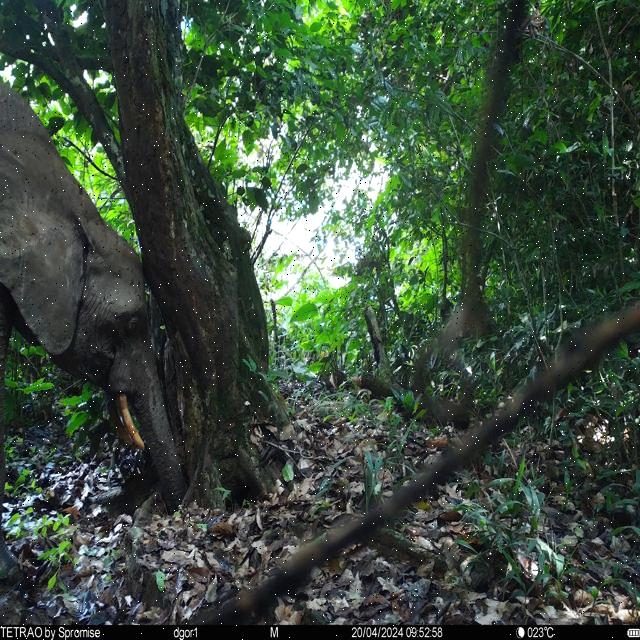ear: (1, 130, 94, 356)
elephant: (0, 81, 187, 513)
tusk: (118, 392, 145, 451), (105, 393, 135, 446)
